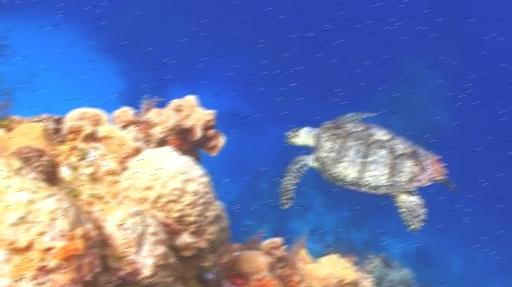Fish: (279, 112, 456, 231)
